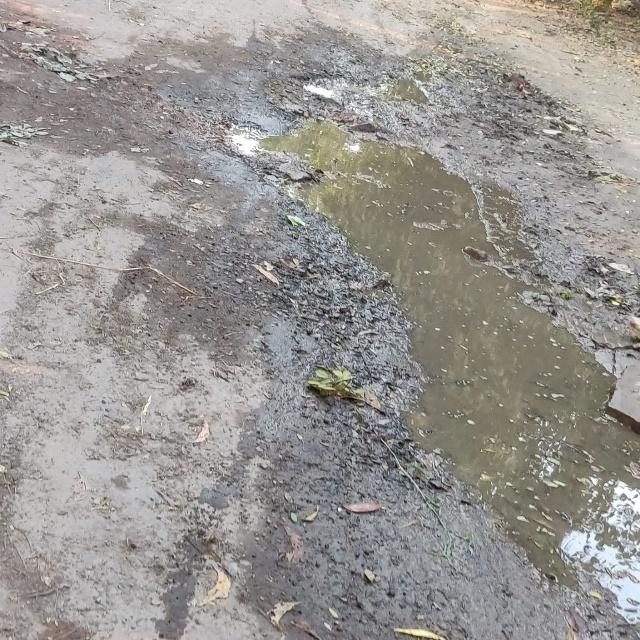Surface Erosion: (149, 60, 640, 633)
